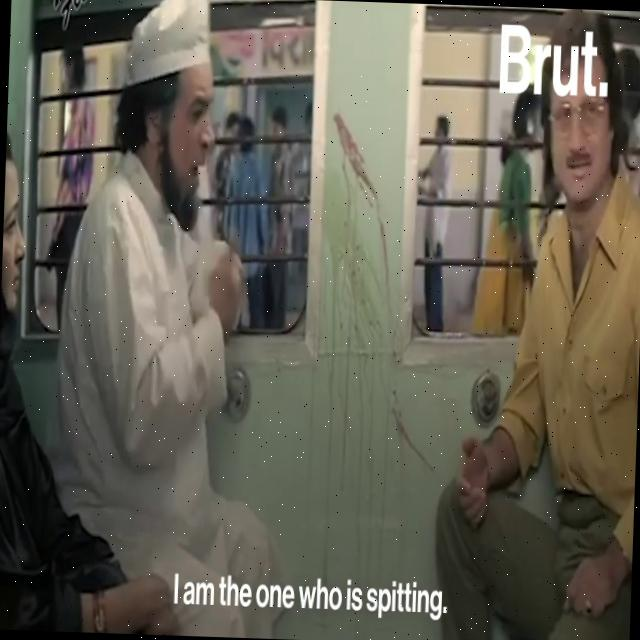spit: (310, 102, 416, 430)
